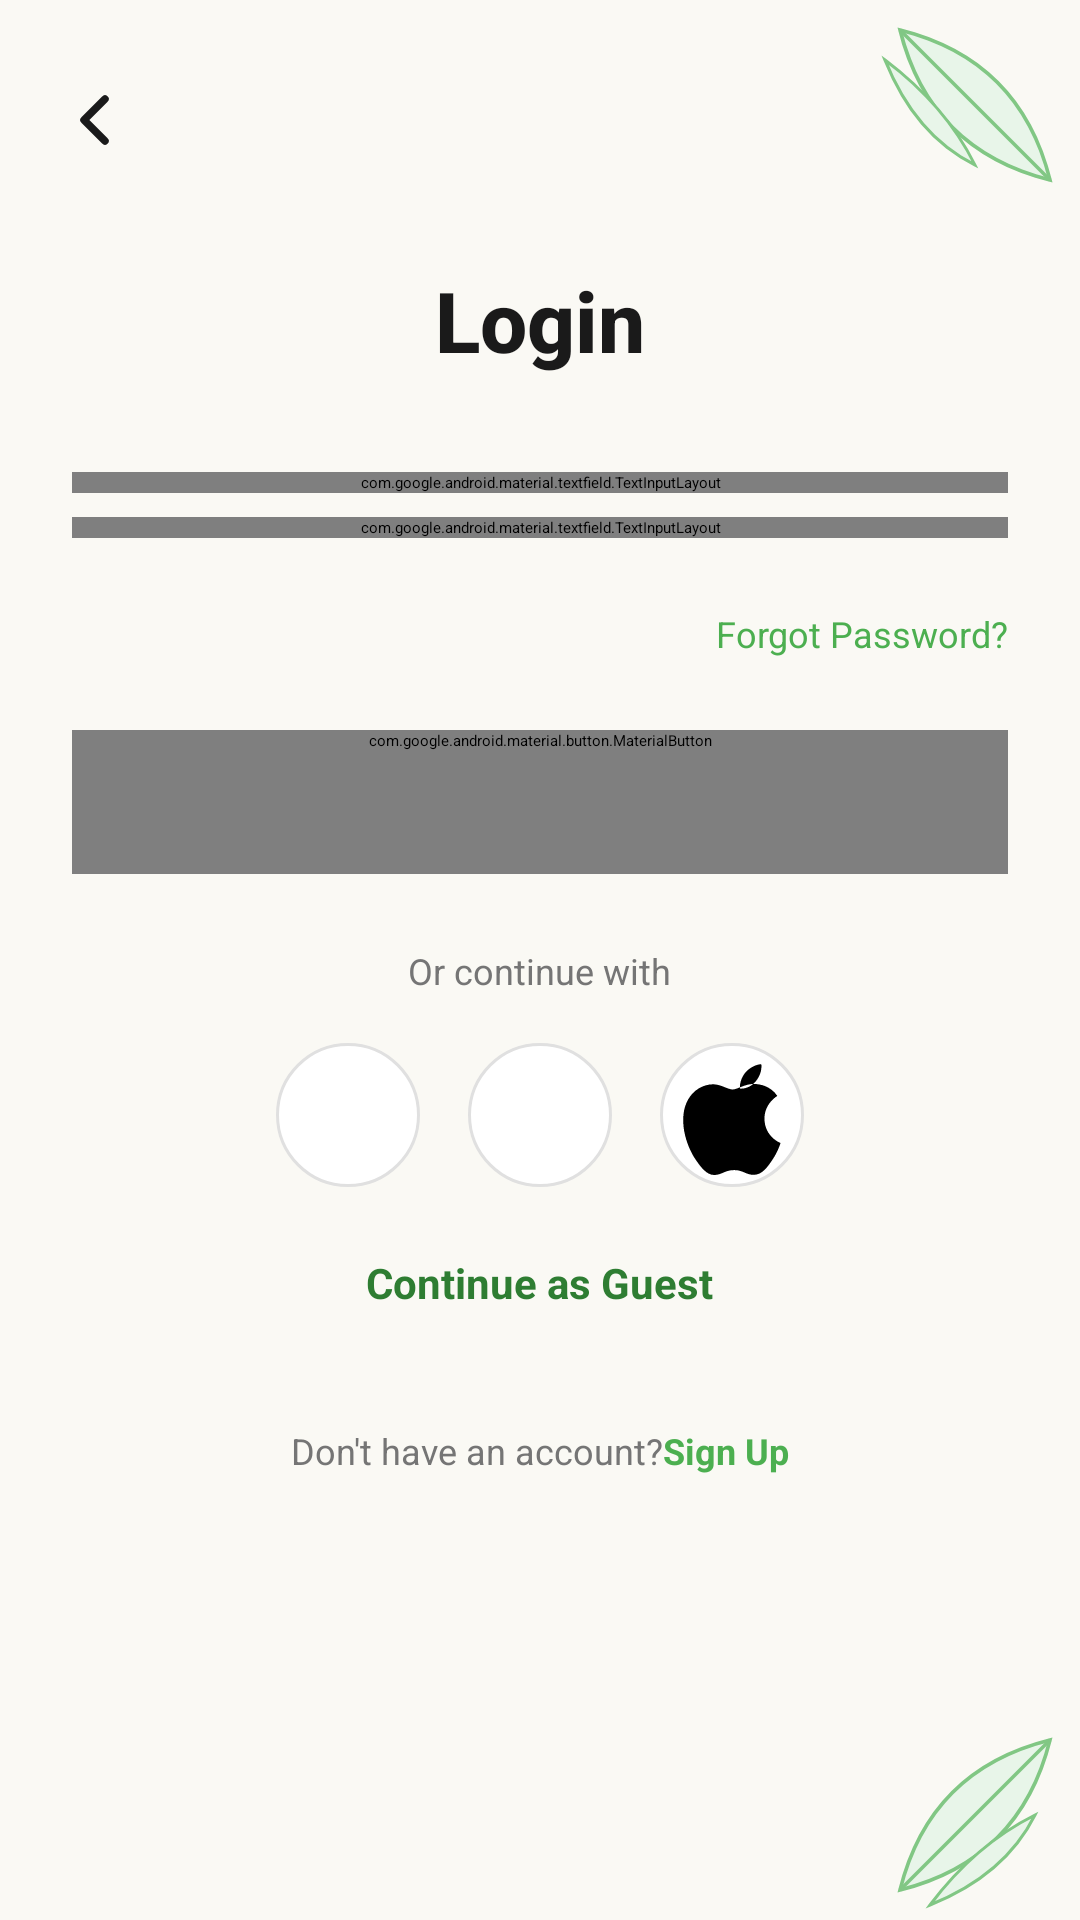

Locate icon controls on the screen. Image size 1080 × 1920, boxes as (x1, y1, x2, y2).
Go back: (80, 95, 109, 145)
